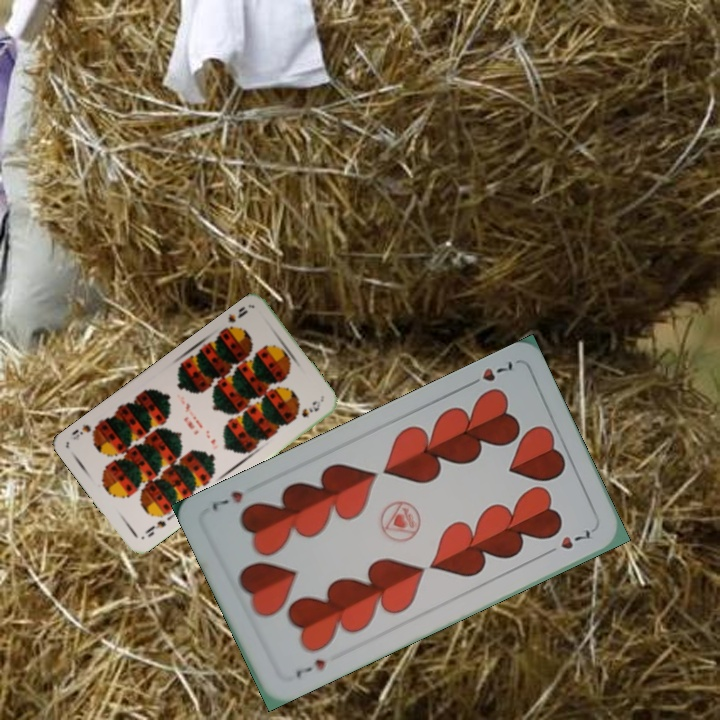H7: (462, 357, 516, 390), (292, 654, 328, 680)
S9: (219, 302, 250, 335), (141, 516, 168, 540)
